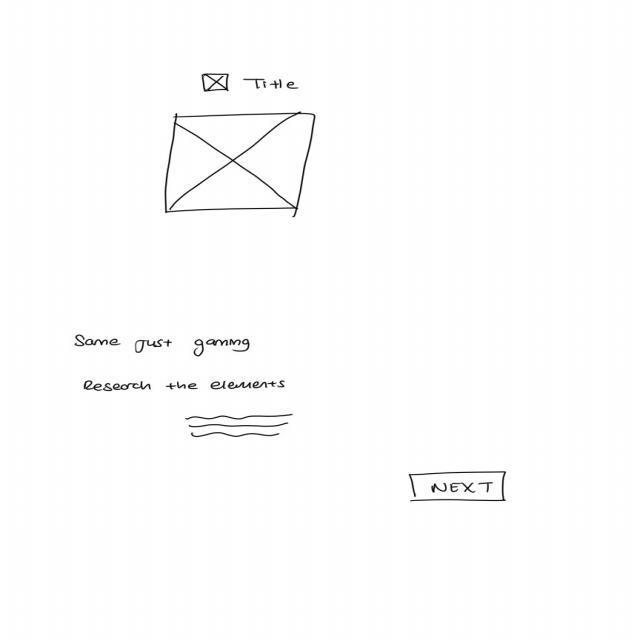button: (408, 472, 509, 505)
image: (163, 114, 318, 215), (200, 74, 233, 95)
label: (74, 334, 252, 359), (83, 380, 292, 393), (243, 79, 302, 92)
textbox: (185, 413, 296, 440)
